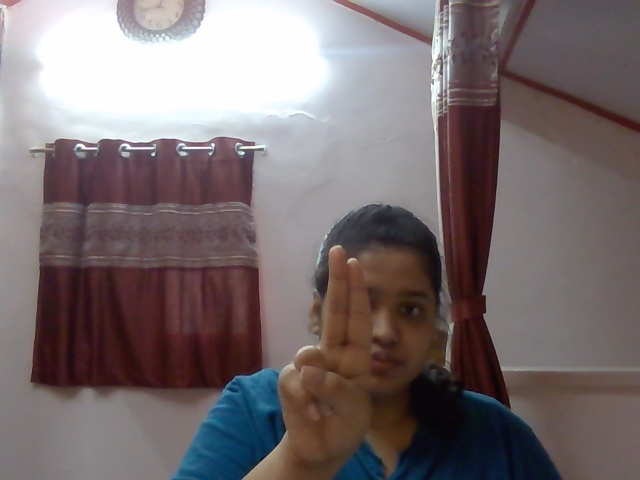u: (269, 241, 384, 453)
